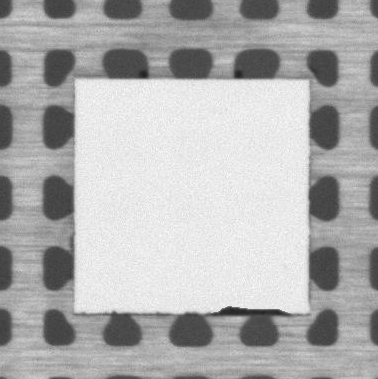DIE_BROKEN: (203, 301, 293, 317)
